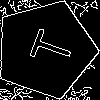T: (20, 24, 76, 69)
